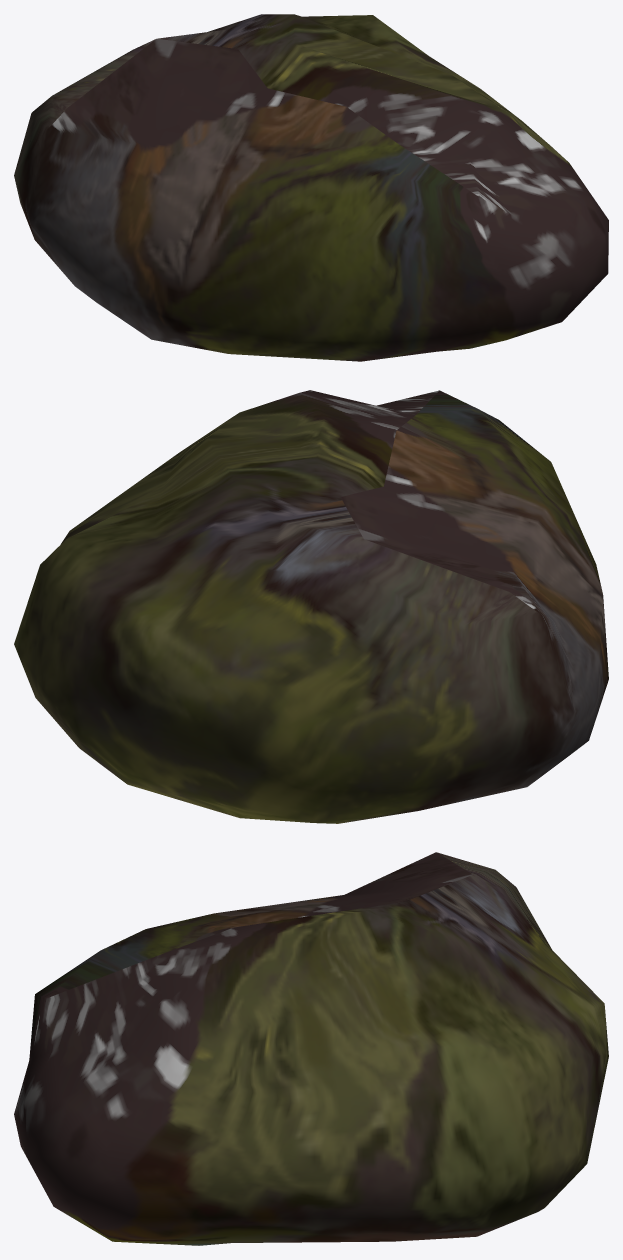
The model's file is rock_small_02.fbx.
3 views of the same model, one above another, from view 1: azimuth 30°, elevation 25°; view 2: azimuth 150°, elevation 25°; view 3: azimuth 270°, elevation 25° (orthographic). The views are drawn at different scales.
Visible parts, largest first — view 1: Mesh; view 2: Mesh; view 3: Mesh.
Boxes of the visible parts, left/top/right/bottom form: Mesh: left=14, top=14, right=608, bottom=361; Mesh: left=14, top=390, right=608, bottom=823; Mesh: left=14, top=852, right=608, bottom=1245.
Bounding box in the file's own units: 24.04 × 12.95 × 24.66.
